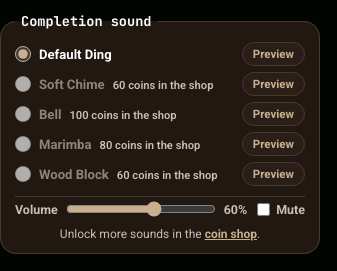
TimerSoundSettings › saves volume and mute without firing sound_change
The width and height of the screenshot is (337, 271).
Set the slider to "30" at coordinates (114, 209), box [66,201,216,217]
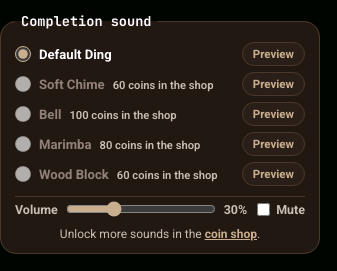
Click the checkbox labelled "Mute" at coordinates (264, 209), box [257,202,270,216]
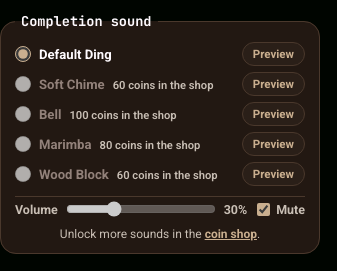
Now the text "30%" is shown, box [224,202,245,216]
Now the slider is disabled, box [66,201,216,217]
